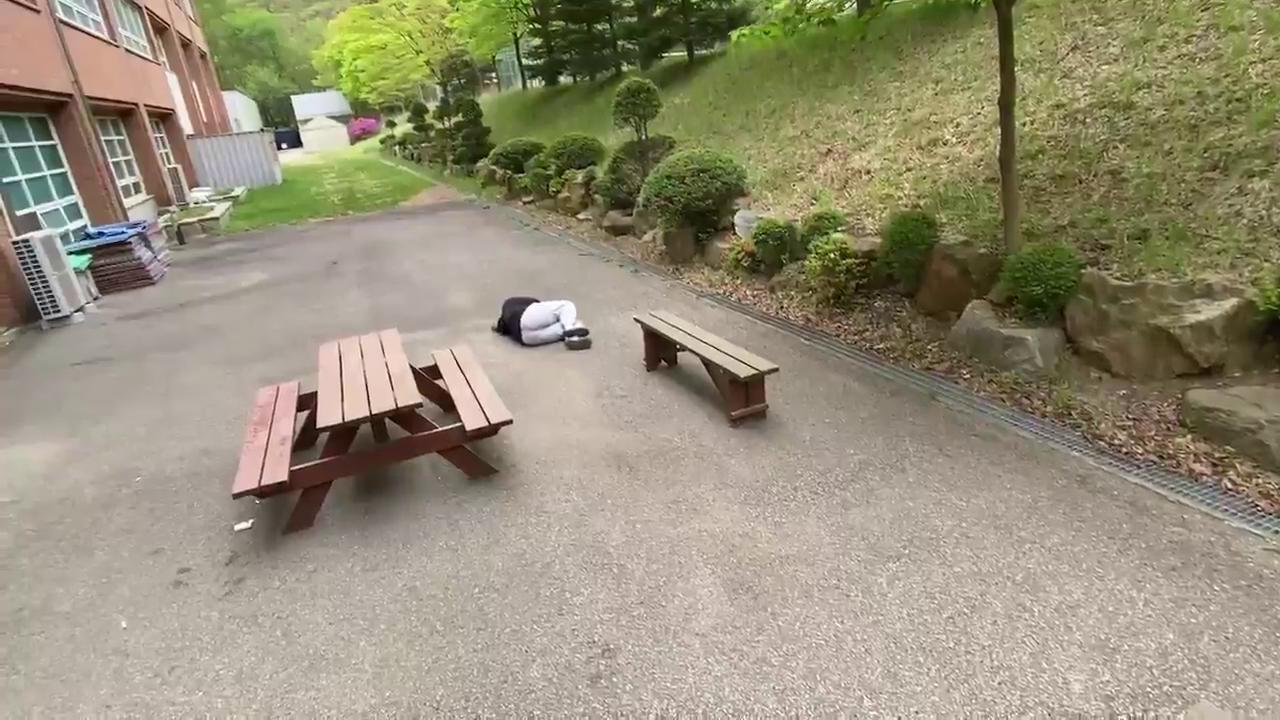faint: (494, 297, 593, 349)
